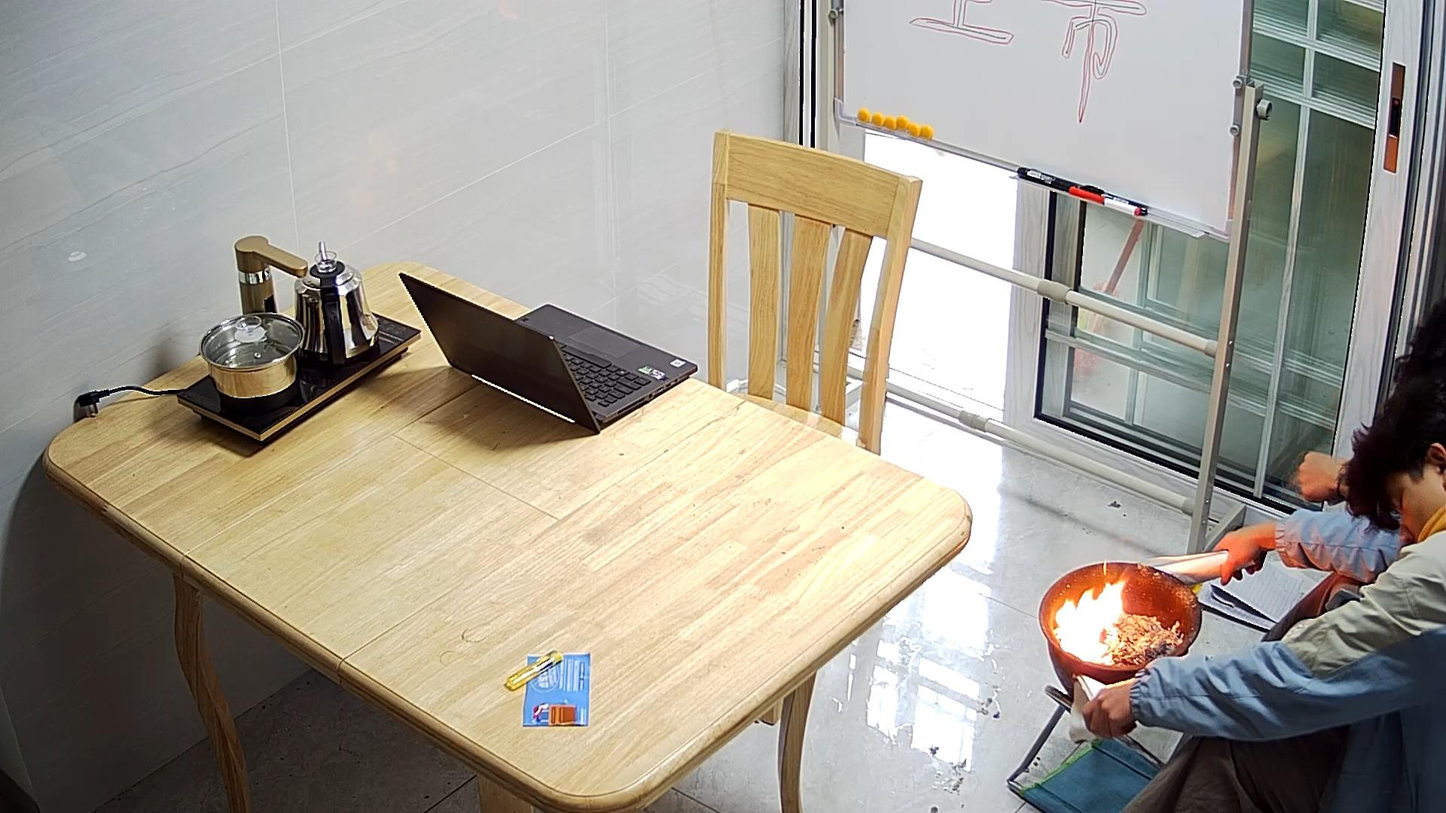fire: (1055, 583, 1121, 662)
